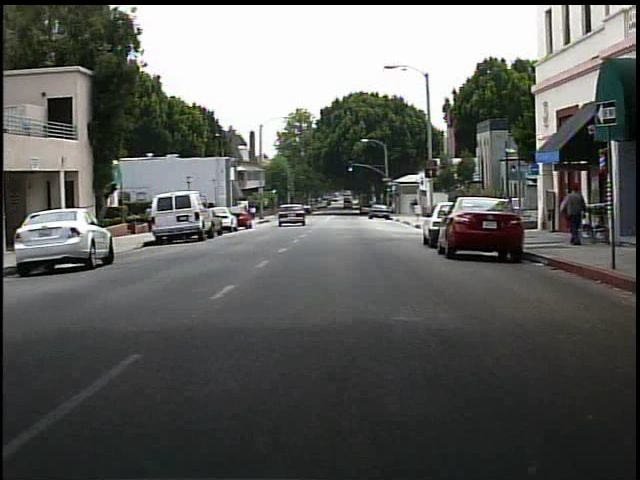person: (555, 183, 589, 248), (146, 205, 161, 236)
